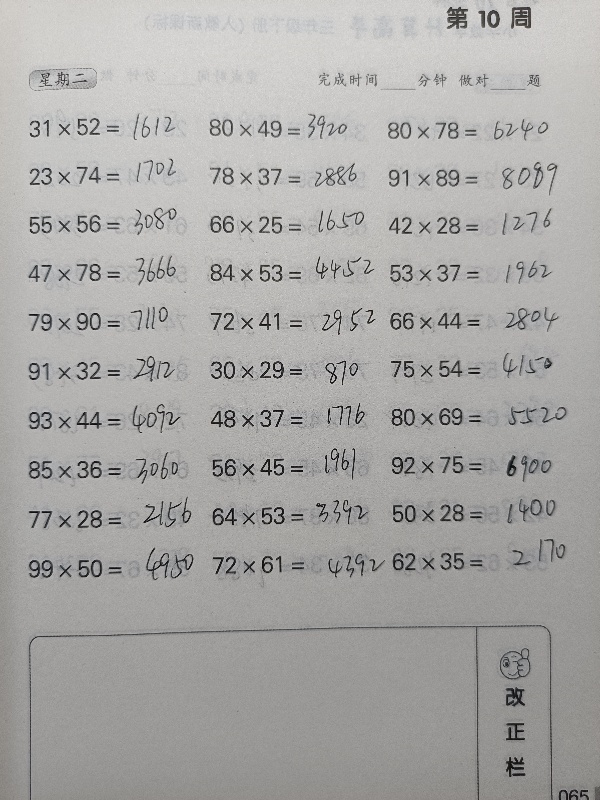equation: (19, 398, 199, 443), (201, 106, 381, 146), (388, 536, 568, 575), (382, 448, 562, 484), (20, 552, 200, 586), (21, 502, 201, 536), (204, 499, 384, 533), (20, 453, 200, 487), (203, 450, 383, 484), (202, 402, 382, 436), (20, 354, 200, 388), (203, 353, 383, 387), (21, 305, 201, 339), (19, 255, 199, 289), (20, 207, 200, 241), (20, 110, 200, 144), (204, 548, 384, 581), (383, 496, 563, 529), (382, 400, 562, 433), (383, 353, 563, 386), (381, 305, 561, 338), (203, 305, 383, 338), (382, 257, 562, 290), (201, 256, 381, 289), (380, 209, 560, 242), (200, 208, 380, 241), (380, 162, 560, 195), (200, 160, 380, 193), (21, 158, 201, 191), (380, 115, 560, 147)
